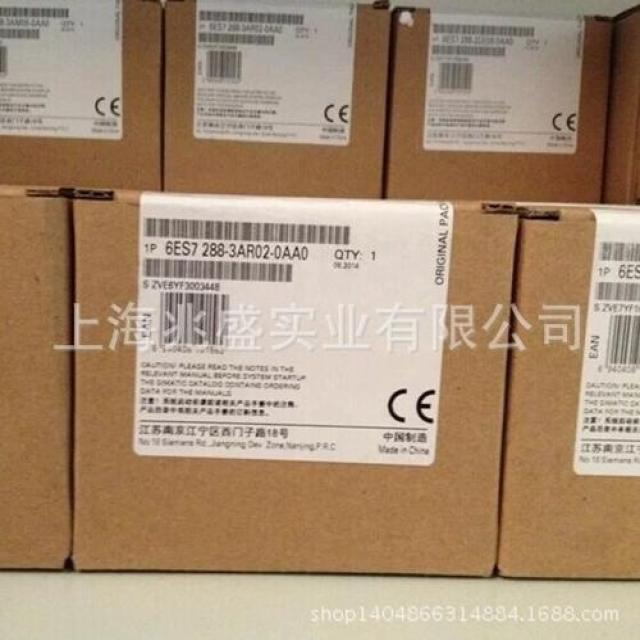box: (72, 189, 517, 580), (498, 205, 640, 581), (163, 3, 393, 198), (388, 8, 613, 201), (0, 1, 163, 189), (0, 198, 69, 569)
